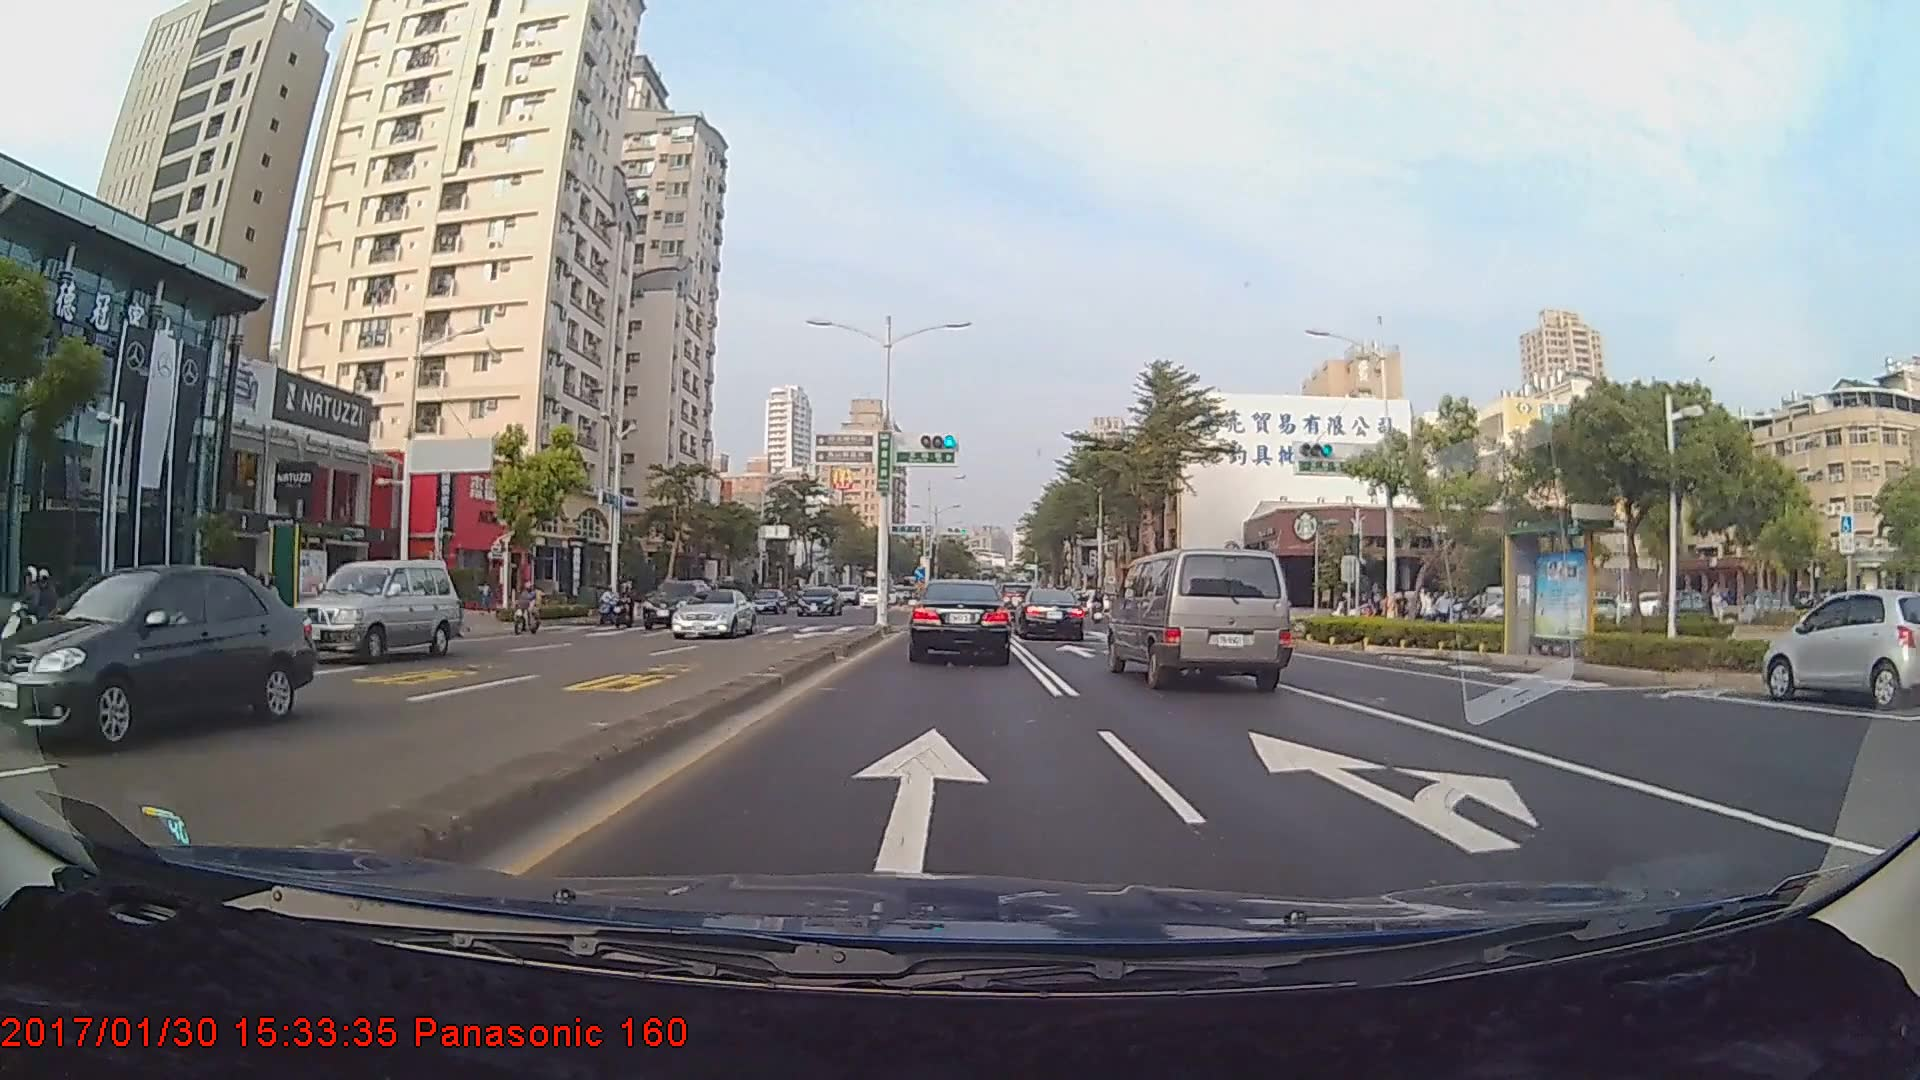rider: (1, 563, 72, 664), (507, 578, 547, 638), (607, 578, 636, 633), (595, 586, 620, 628)
vehicle: (0, 565, 319, 754), (1109, 543, 1294, 693), (1760, 585, 1920, 707), (281, 556, 460, 661), (910, 577, 1011, 663), (669, 589, 755, 639), (641, 576, 713, 630), (1015, 588, 1085, 640), (796, 583, 844, 618)
